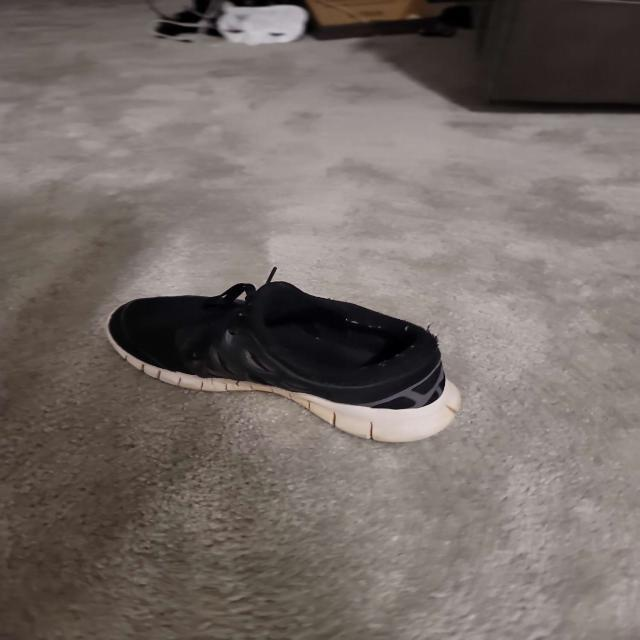shoe: (107, 280, 462, 443)
